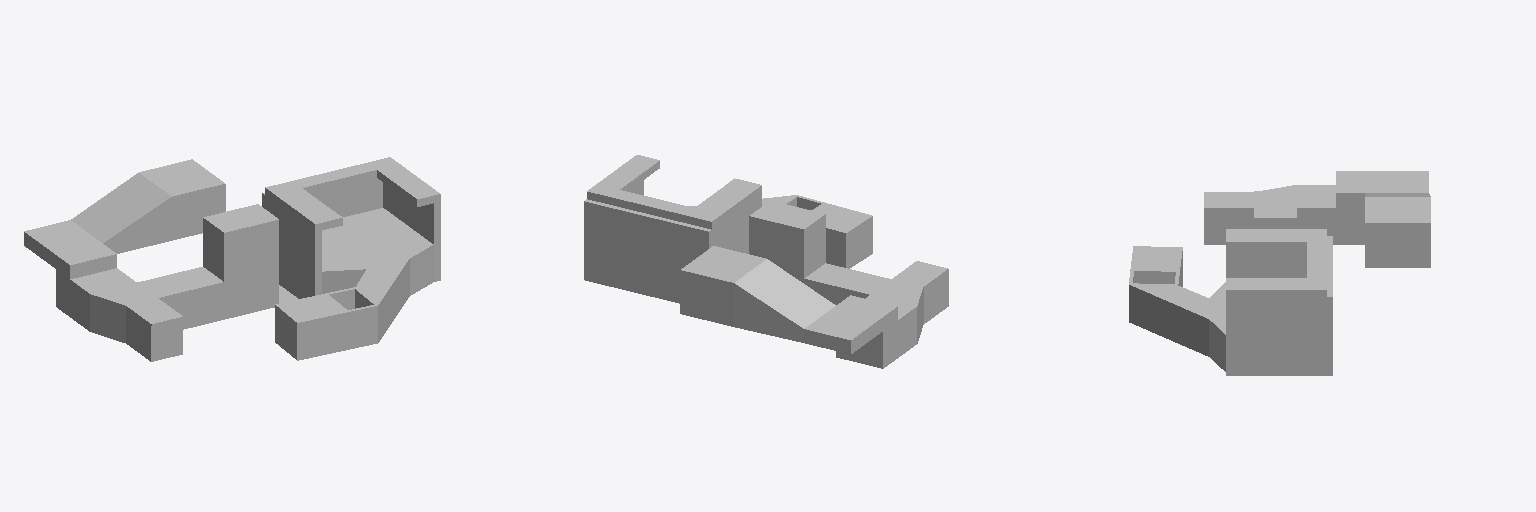
File: stage3.obj
3 views of the same model, side by side, from view 1: azimuth 30°, elevation 25°; view 2: azimuth 150°, elevation 25°; view 3: azimuth 270°, elevation 25° (orthographic).
Parts seen in each view (by area): view 1: stage3; view 2: stage3; view 3: stage3.
Boxes of the visible parts, <box> form: stage3: <box>24,157,440,361</box>; stage3: <box>584,155,948,368</box>; stage3: <box>1129,171,1430,375</box>.
Bounding box in the file's own units: 52.24 × 13.74 × 43.37.